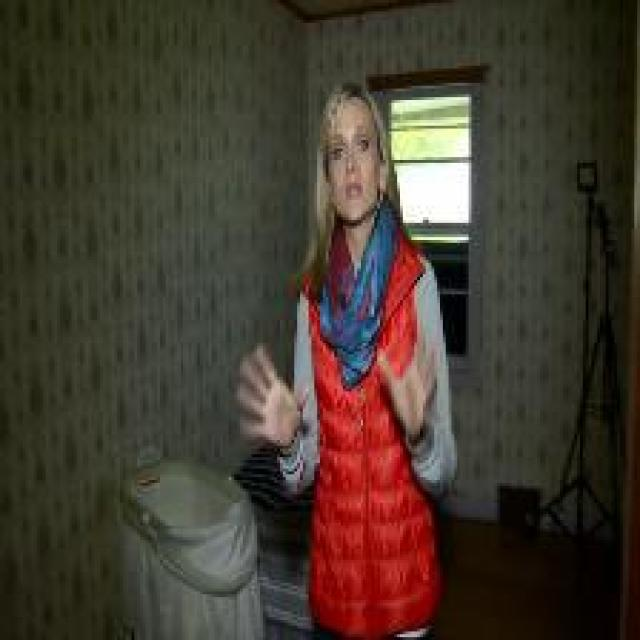other: (313, 287, 435, 609)
